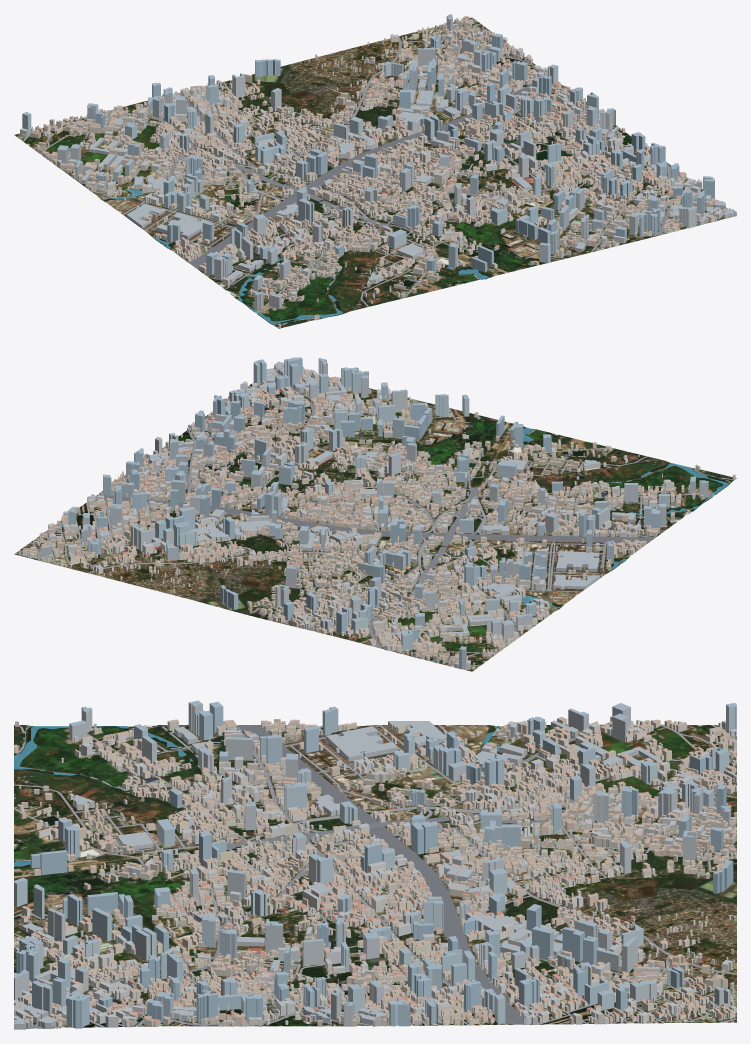
3 views of the same model, one above another, from view 1: azimuth 30°, elevation 25°; view 2: azimuth 150°, elevation 25°; view 3: azimuth 270°, elevation 25° (orthographic). The views are drawn at different scales.
Visible parts, largest first — view 1: TERRAIN, BLDG_SHOPHOUSE_VILLA, BLDG_MODERN_TOWER, BLDG_TUBE_HOUSE, BLDG_APARTMENT, ROAD_METRO, BLDG_INDUSTRIAL_PORT, WATER; view 2: TERRAIN, BLDG_SHOPHOUSE_VILLA, BLDG_MODERN_TOWER, BLDG_TUBE_HOUSE, BLDG_APARTMENT, ROAD_METRO, BLDG_INDUSTRIAL_PORT, WATER; view 3: BLDG_SHOPHOUSE_VILLA, TERRAIN, BLDG_MODERN_TOWER, BLDG_TUBE_HOUSE, BLDG_APARTMENT, ROAD_METRO, BLDG_INDUSTRIAL_PORT, WATER.
Part boxes in pixels (x1,y1,x2,y2): TERRAIN: [14, 17, 734, 328]; BLDG_SHOPHOUSE_VILLA: [30, 16, 726, 320]; BLDG_MODERN_TOWER: [22, 14, 714, 310]; BLDG_TUBE_HOUSE: [22, 18, 717, 328]; BLDG_APARTMENT: [20, 31, 722, 300]; ROAD_METRO: [23, 19, 726, 327]; BLDG_INDUSTRIAL_PORT: [81, 53, 736, 284]; WATER: [101, 188, 546, 323]; TERRAIN: [14, 368, 736, 671]; BLDG_SHOPHOUSE_VILLA: [22, 366, 698, 664]; BLDG_MODERN_TOWER: [40, 357, 708, 669]; BLDG_TUBE_HOUSE: [25, 377, 735, 667]; BLDG_APARTMENT: [48, 371, 671, 669]; ROAD_METRO: [18, 369, 734, 665]; BLDG_INDUSTRIAL_PORT: [99, 361, 635, 637]; WATER: [522, 427, 729, 608]; BLDG_SHOPHOUSE_VILLA: [14, 717, 736, 1027]; TERRAIN: [14, 724, 736, 1028]; BLDG_MODERN_TOWER: [14, 700, 736, 1028]; BLDG_TUBE_HOUSE: [14, 720, 736, 1026]; BLDG_APARTMENT: [15, 716, 736, 1027]; ROAD_METRO: [14, 725, 736, 1028]; BLDG_INDUSTRIAL_PORT: [14, 720, 699, 1029]; WATER: [14, 726, 501, 928].
Bounding box in the file's own units: 2000 × 107 × 2000.
Materials: 8 (1 with a texture image).
